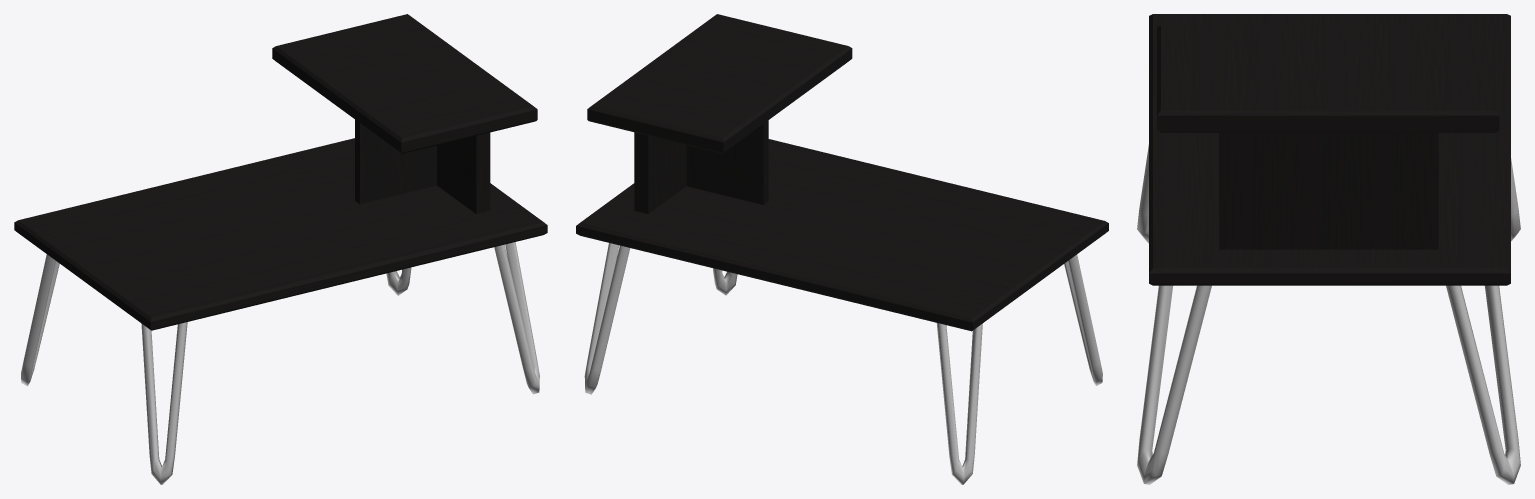
Rendered from End_Table_04.FBX.
3 views of the same model, side by side, from view 1: azimuth 30°, elevation 25°; view 2: azimuth 150°, elevation 25°; view 3: azimuth 270°, elevation 25° (orthographic). The views are drawn at different scales.
Parts seen in each view (by area): view 1: End_Table; view 2: End_Table; view 3: End_Table.
Boxes of the visible parts, x1,y1,x2,y2 form: End_Table: (14, 14, 547, 484); End_Table: (576, 14, 1108, 484); End_Table: (1137, 14, 1520, 484).
Size of the model in its own units: 160 by 109 by 101.
